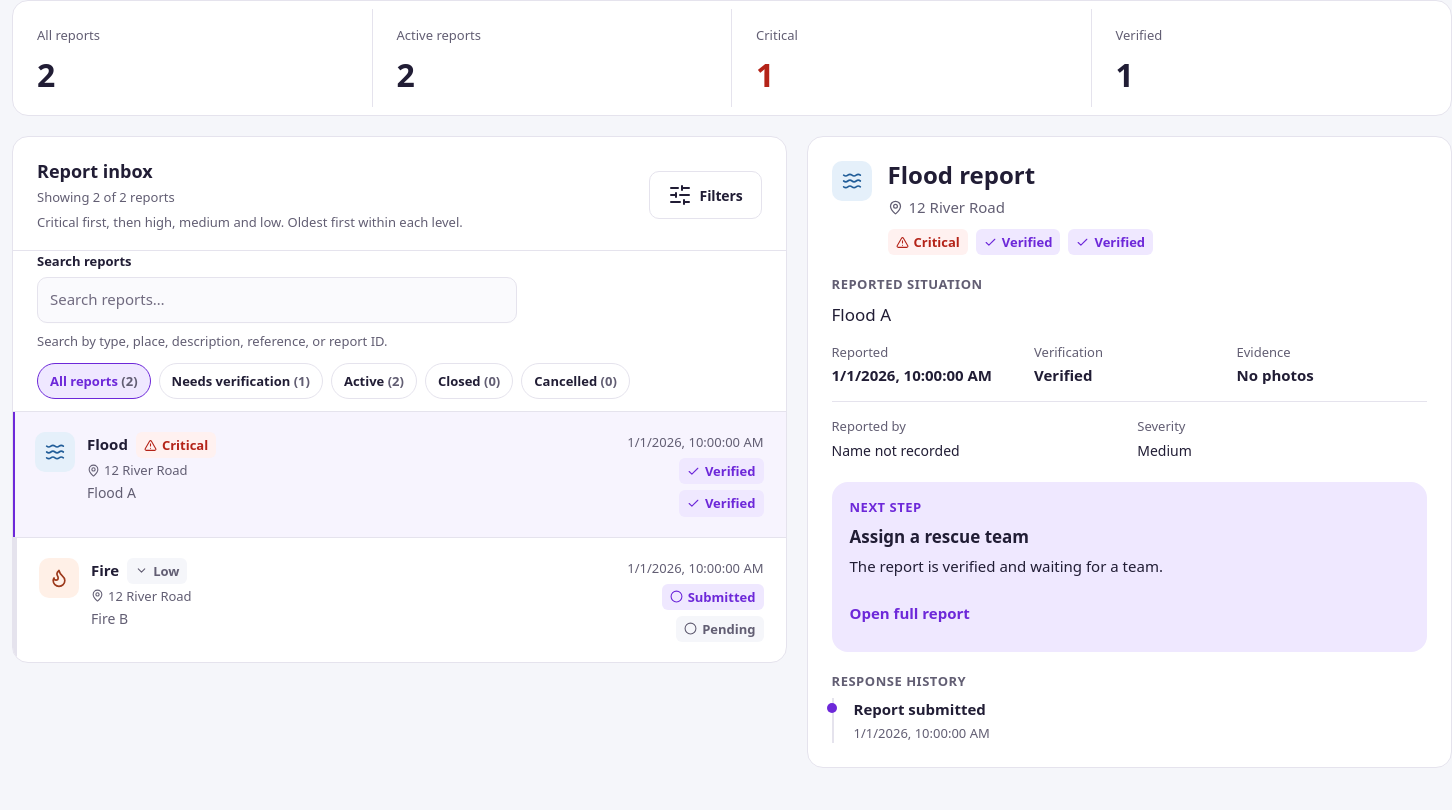
Test: ReportQueue › filter Status narrows rows
This screenshot has width=1452, height=810.
Click the button "Filters" at (705, 195), box [649,171,762,219]
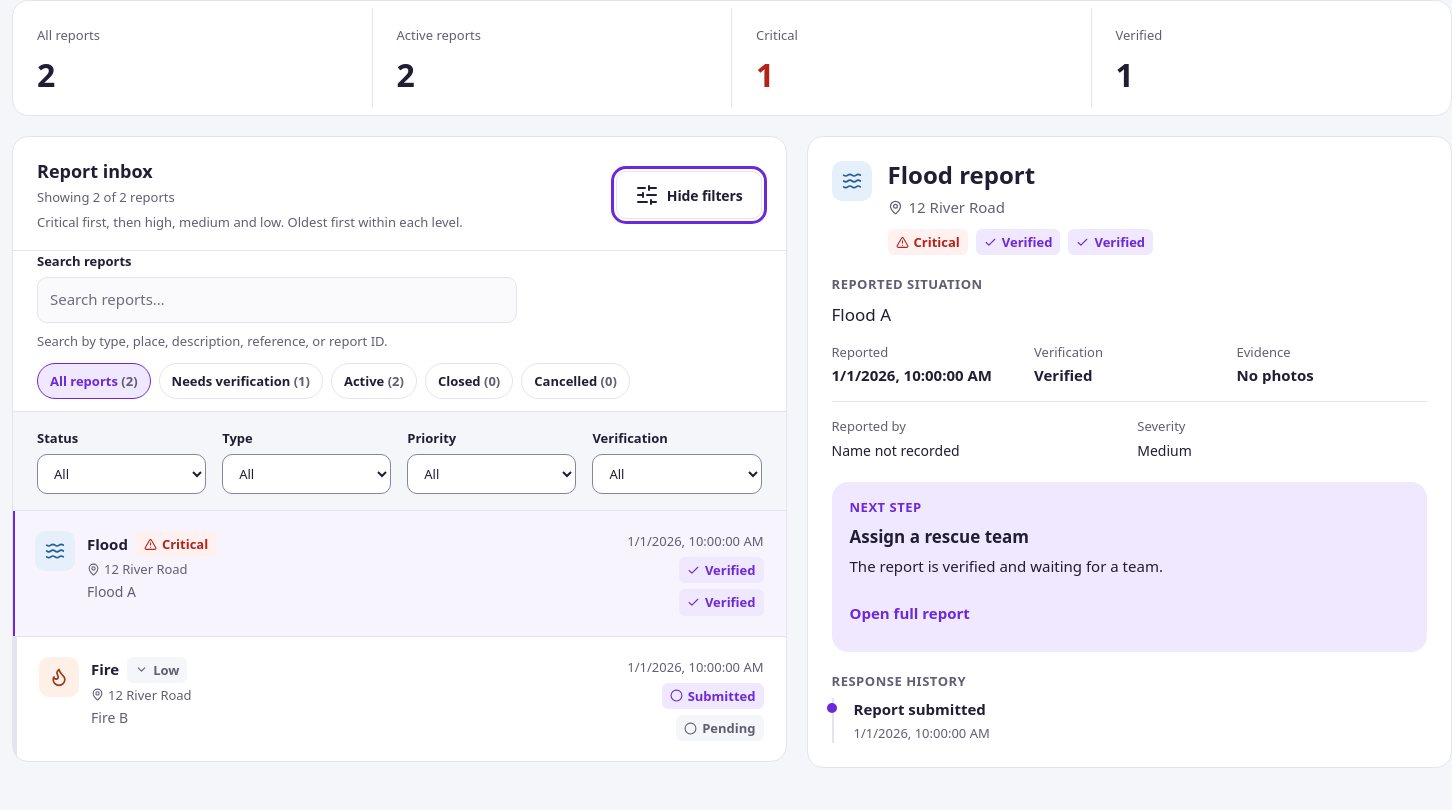
Select "Submitted" in the dropdown labelled "Status" at (122, 474), box [37,454,206,494]
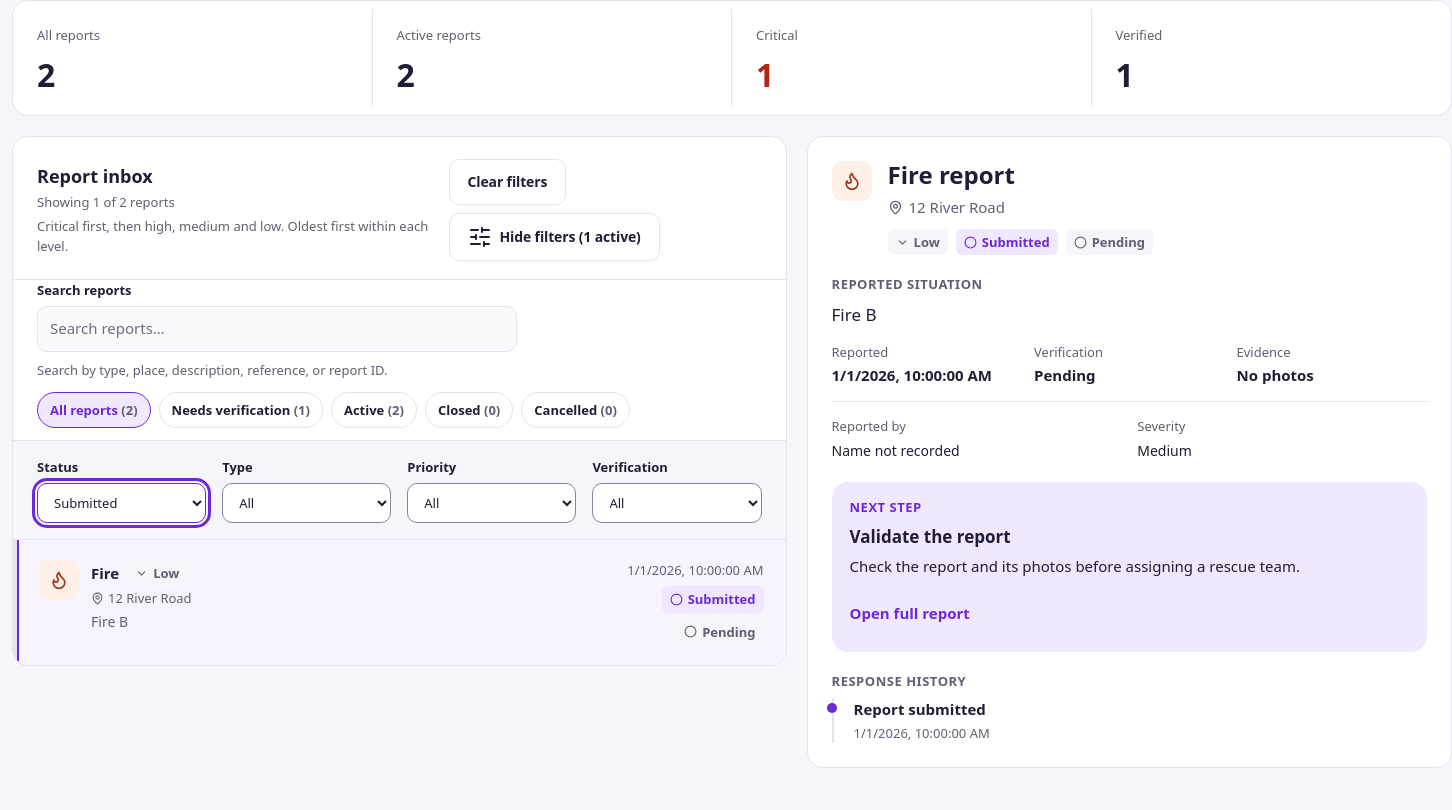
Expected: the text "Fire B" below "Status" is shown, [91,612,128,631]
Expected: the button "Flood A" is gone
